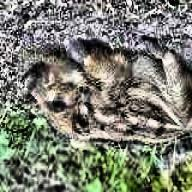boar: (23, 29, 192, 145)
